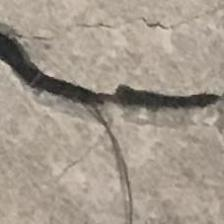Crack: (0, 27, 224, 147)
